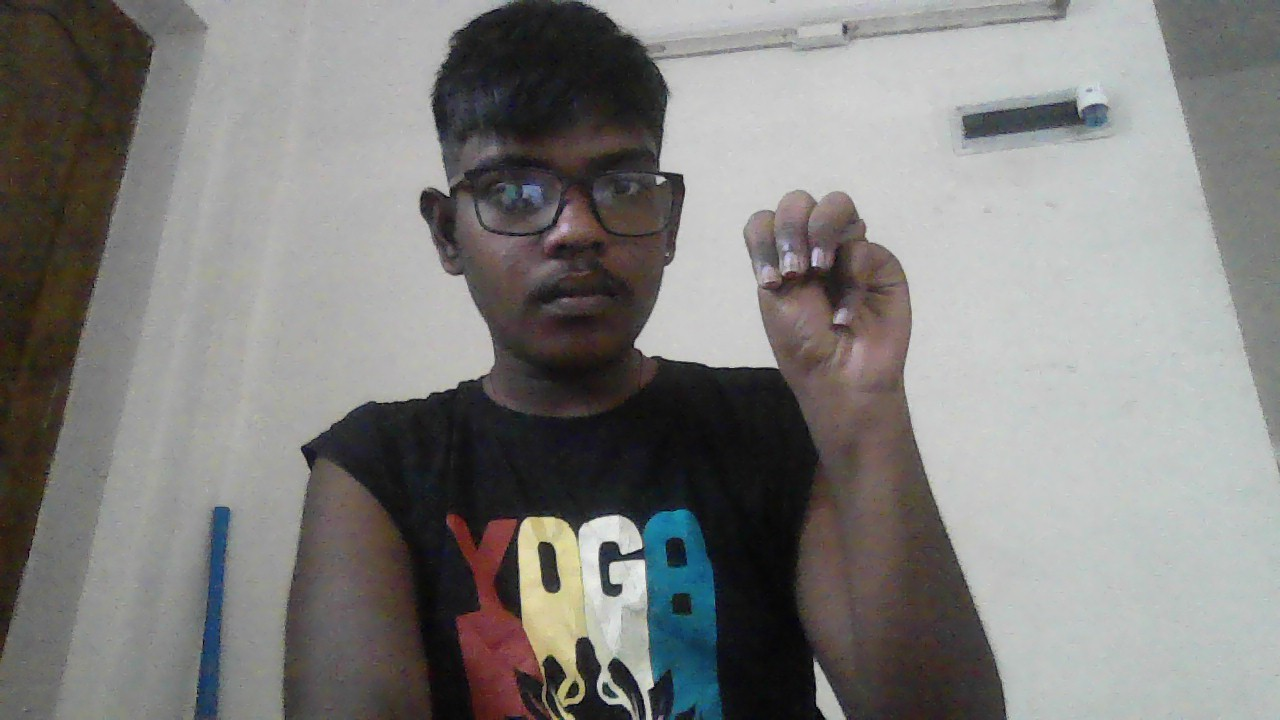M: (743, 191, 912, 418)
